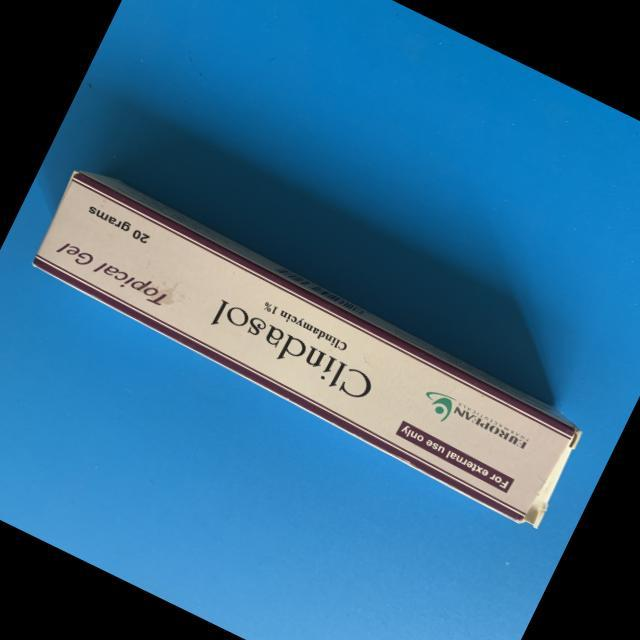Medicine Name: (195, 291, 386, 414)
